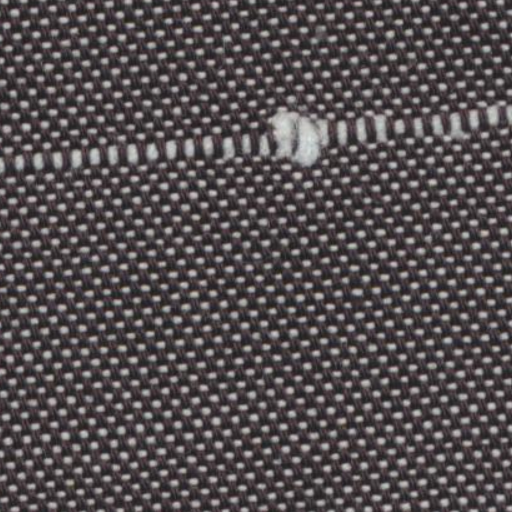DaiSha: (16, 94, 506, 171)
